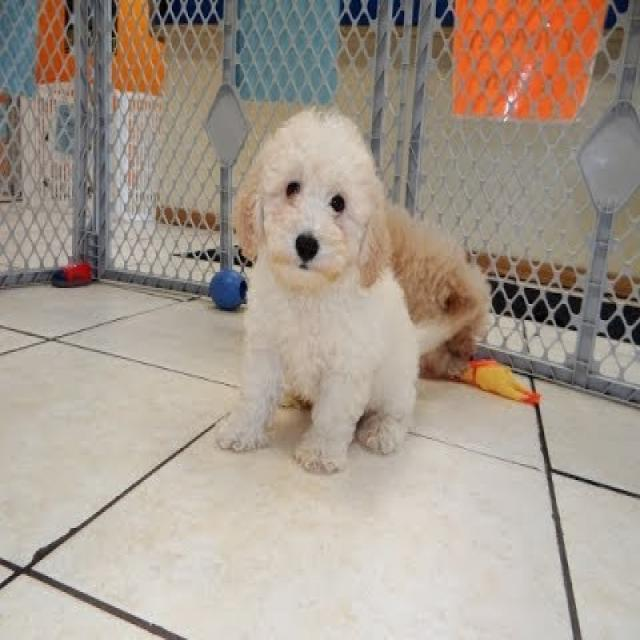dog: (198, 85, 419, 337)
